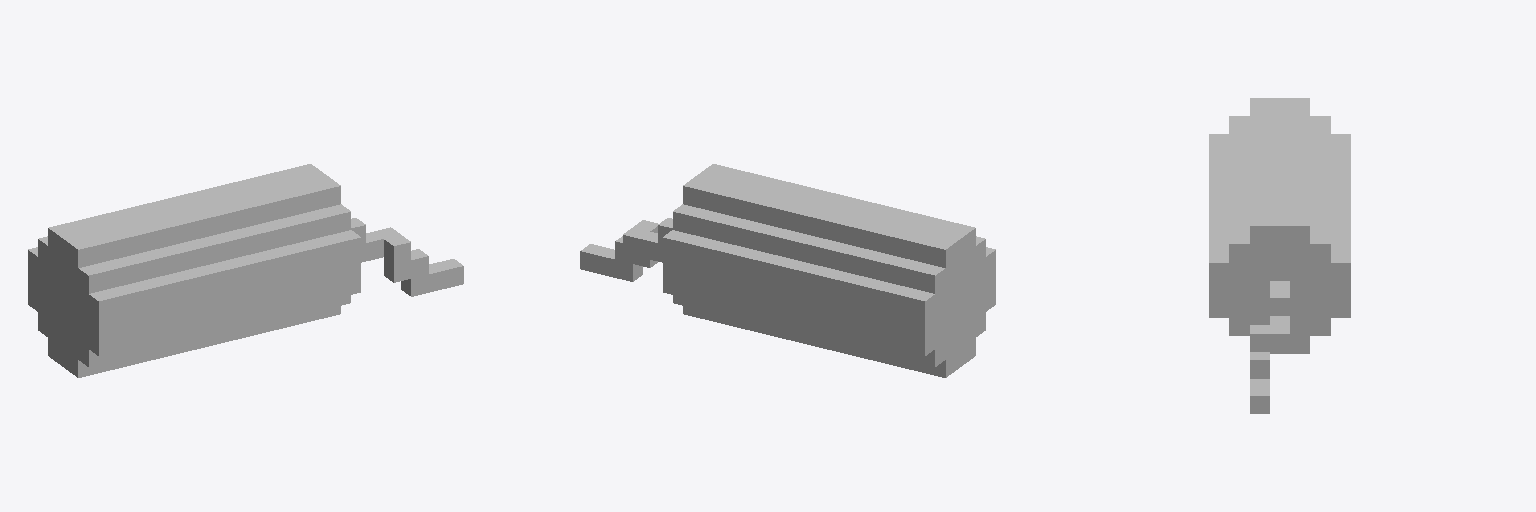
The model's file is TNT.obj.
The picture shows the model from 3 angles: view 1: azimuth 30°, elevation 25°; view 2: azimuth 150°, elevation 25°; view 3: azimuth 270°, elevation 25°; orthographic projection.
Bounding box in the file's own units: 22 × 7 × 7.